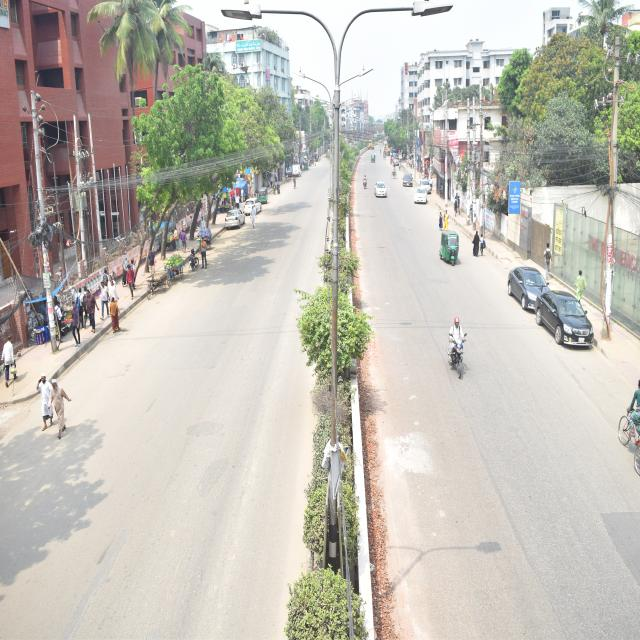car: (495, 241, 568, 329), (539, 273, 605, 355), (224, 198, 252, 254), (242, 184, 270, 230), (375, 173, 396, 214), (412, 180, 434, 216), (420, 168, 440, 198), (398, 165, 416, 192)
motorbike: (427, 300, 484, 392), (183, 246, 213, 276), (358, 170, 374, 200)
pickup-van: (290, 155, 304, 190)
